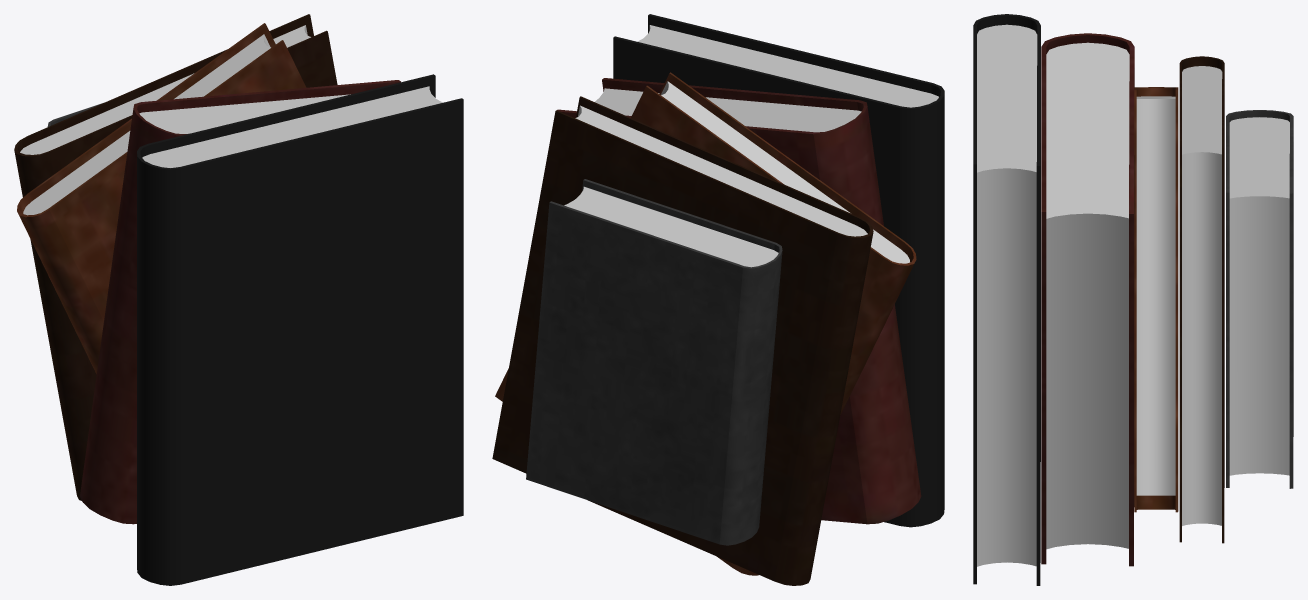
Rendered from books.fbx.
3 views of the same model, side by side, from view 1: azimuth 30°, elevation 25°; view 2: azimuth 150°, elevation 25°; view 3: azimuth 270°, elevation 25° (orthographic).
Parts seen in each view (by area): view 1: defaultMaterial.001; view 2: defaultMaterial.001; view 3: defaultMaterial.001.
Boxes of the visible parts, x1,y1,x2,y2 form: defaultMaterial.001: (14, 14, 463, 585); defaultMaterial.001: (492, 14, 944, 585); defaultMaterial.001: (973, 14, 1293, 585).
Bounding box in the file's own units: 182 × 200 × 123.
